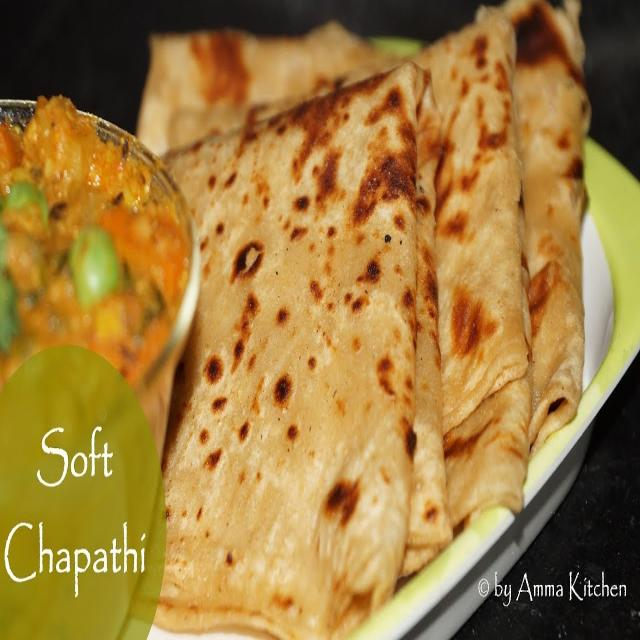roti: (155, 62, 451, 639), (420, 8, 531, 527), (502, 0, 590, 453), (137, 21, 393, 154)
